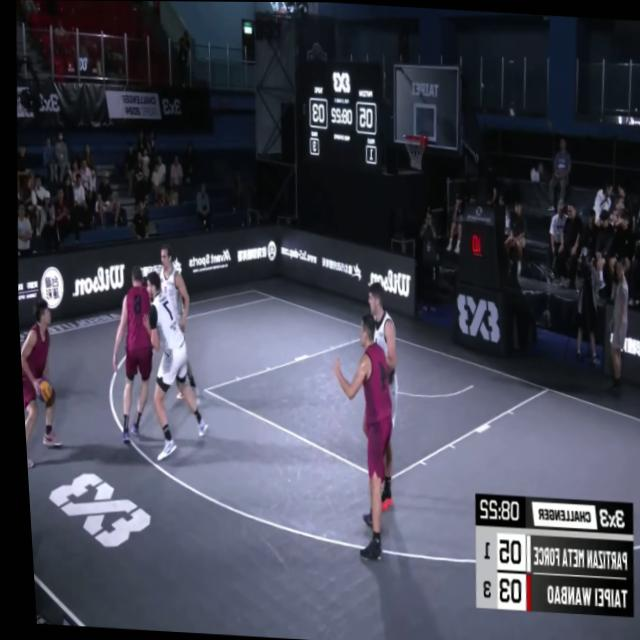ball: (29, 376, 52, 408)
hoop: (396, 129, 429, 171)
player: (314, 306, 405, 566), (128, 270, 213, 467), (345, 278, 405, 523), (98, 263, 161, 452), (144, 237, 199, 406), (14, 299, 65, 467)
